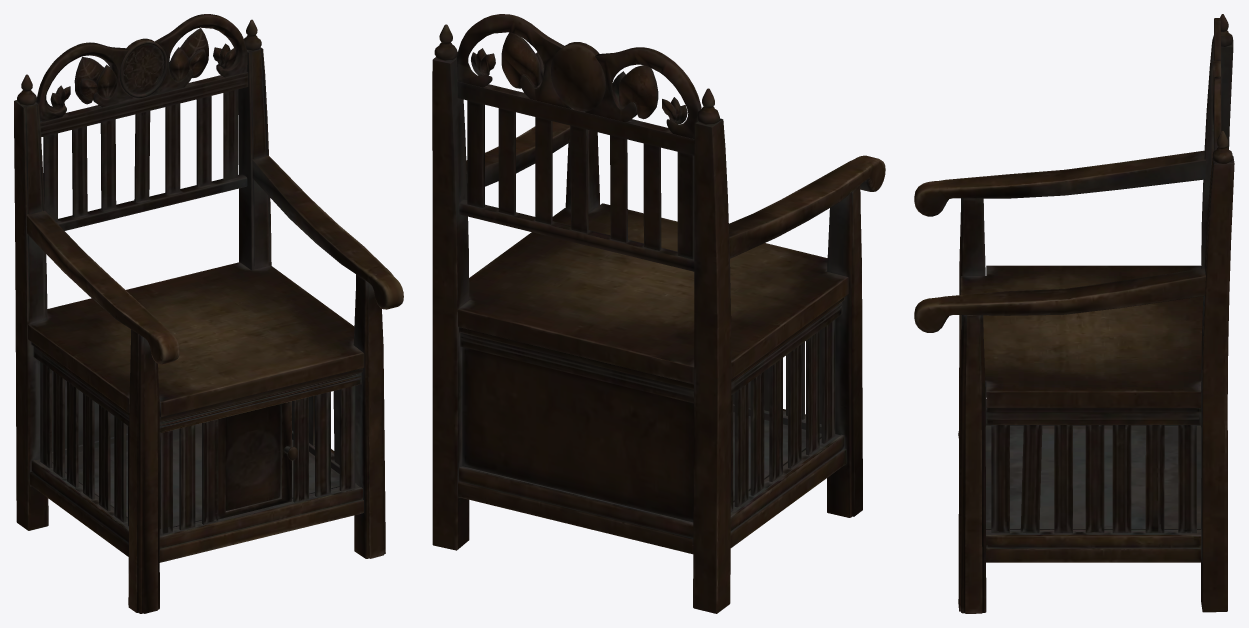
Rendered from gallinera_chair.glb.
3 views of the same model, side by side, from view 1: azimuth 30°, elevation 25°; view 2: azimuth 150°, elevation 25°; view 3: azimuth 270°, elevation 25° (orthographic). The views are drawn at different scales.
Parts seen in each view (by area): view 1: gallinera_chair; view 2: gallinera_chair; view 3: gallinera_chair.
Boxes of the visible parts, x1,y1,x2,y2 form: gallinera_chair: (14, 14, 403, 613); gallinera_chair: (432, 14, 885, 613); gallinera_chair: (914, 14, 1234, 613).
Size of the model in its own units: 0.5807 by 1.03 by 0.6038.
Materials: 1 (1 with a texture image).
